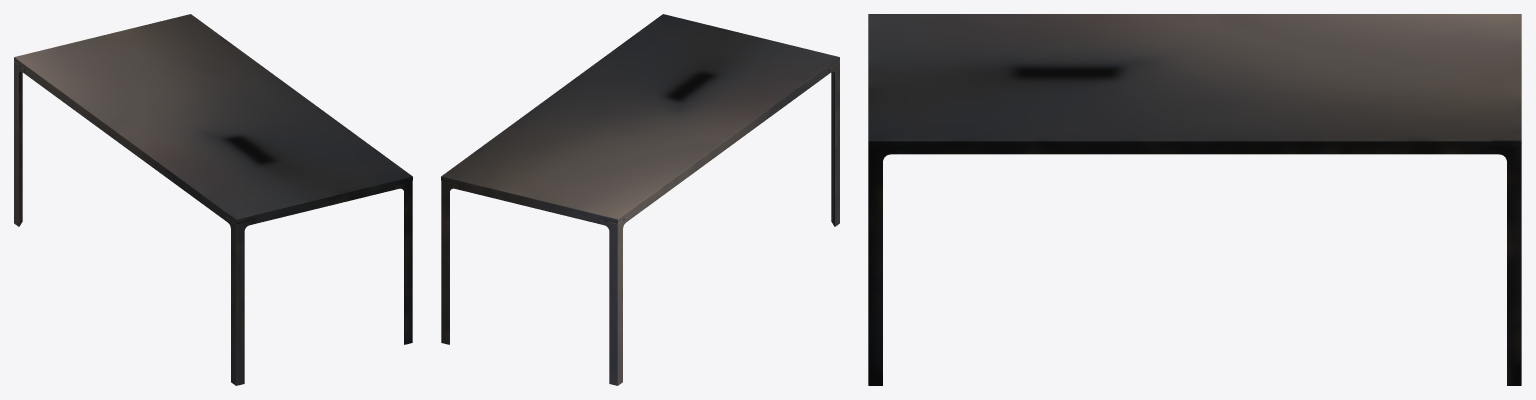
The model's file is Table.gltf.
The picture shows the model from 3 angles, left to right: view 1: azimuth 30°, elevation 25°; view 2: azimuth 150°, elevation 25°; view 3: azimuth 270°, elevation 25°; orthographic projection. The views are drawn at different scales.
Visible parts, largest first — view 1: Table; view 2: Table; view 3: Table.
Part boxes in pixels (x1,y1,x2,y2): Table: (14, 14, 412, 385); Table: (441, 14, 839, 385); Table: (868, 14, 1521, 385).
Bounding box in the file's own units: 0.8002 × 0.72 × 1.74.
Materials: 1 (1 with a texture image).
